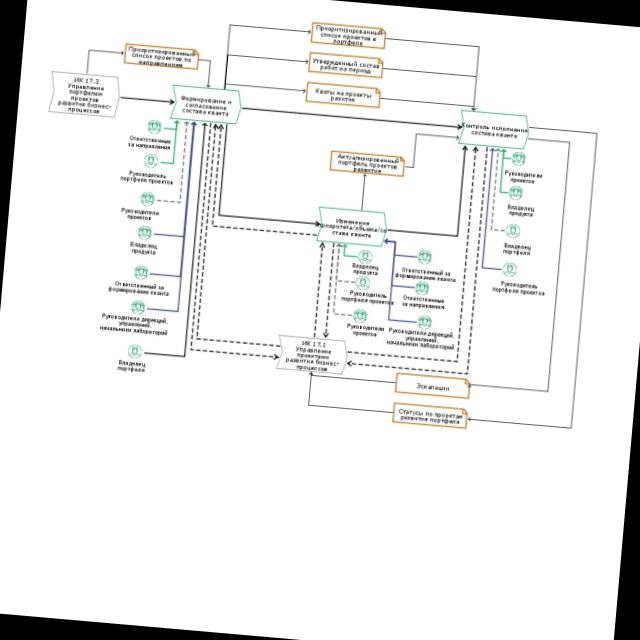arrow: (143, 119, 207, 357), (217, 124, 329, 228), (146, 118, 197, 313), (387, 139, 468, 238), (381, 36, 482, 111), (223, 22, 311, 95), (242, 105, 463, 129), (478, 148, 512, 271), (377, 237, 424, 323), (305, 372, 396, 414), (224, 52, 308, 96), (405, 130, 459, 172), (223, 81, 305, 96), (85, 47, 123, 76), (160, 116, 180, 166), (497, 149, 512, 194), (120, 93, 175, 105), (197, 58, 213, 88), (360, 173, 367, 211), (341, 244, 359, 258)
circle: (356, 248, 375, 267), (135, 223, 154, 242), (417, 248, 433, 265), (142, 153, 158, 169), (355, 275, 371, 290), (417, 316, 433, 330), (505, 225, 521, 239), (508, 185, 523, 199), (135, 265, 149, 279), (141, 192, 155, 206), (353, 309, 367, 323), (511, 152, 525, 165), (131, 301, 145, 314), (148, 120, 161, 134), (415, 282, 429, 295), (502, 264, 517, 276), (129, 345, 142, 358)
rectangle: (46, 70, 121, 119), (316, 206, 388, 248), (171, 84, 243, 126), (277, 334, 348, 376), (459, 110, 530, 150), (391, 402, 467, 429), (394, 372, 470, 399), (123, 44, 199, 70), (310, 23, 385, 49), (330, 151, 406, 176), (308, 53, 383, 78), (306, 83, 380, 108)
text_region: (99, 312, 169, 336), (386, 327, 455, 350), (108, 279, 170, 297), (395, 267, 456, 283), (341, 289, 394, 306), (119, 169, 175, 185), (492, 280, 546, 296), (128, 135, 172, 152), (401, 294, 445, 310), (120, 207, 159, 222), (504, 170, 543, 185), (346, 323, 384, 338), (116, 359, 147, 373), (129, 241, 157, 255), (351, 262, 379, 276), (503, 242, 531, 256), (507, 203, 535, 217)
